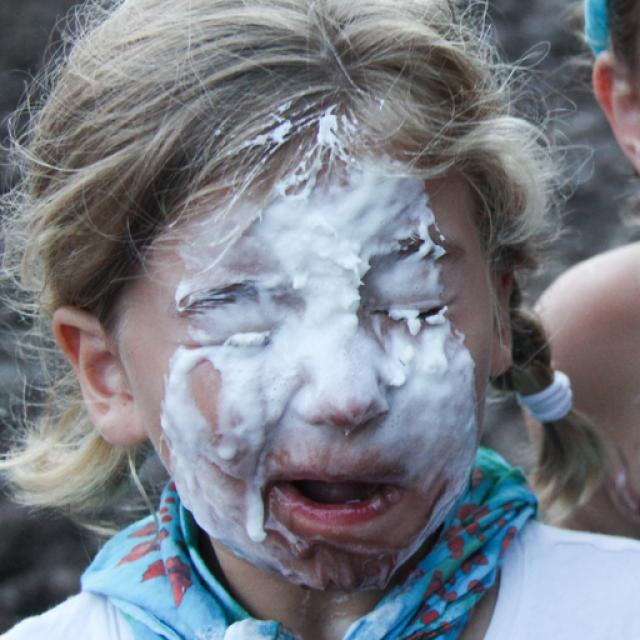sad: (121, 113, 484, 592)
